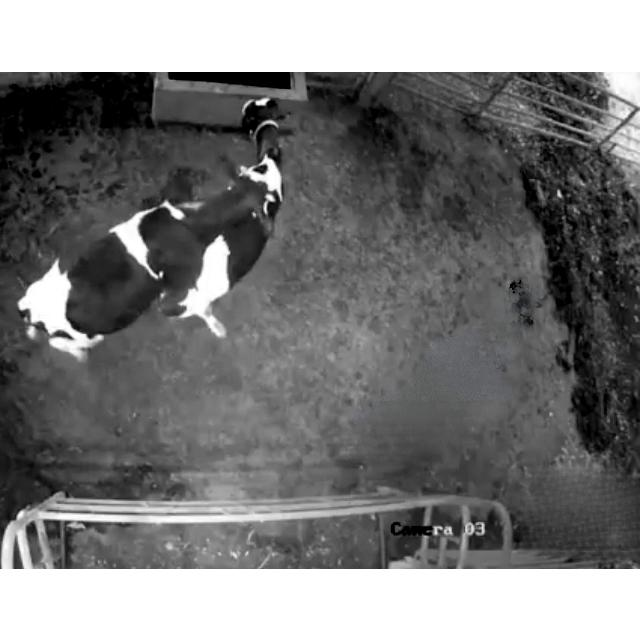ride: (0, 152, 310, 378)
